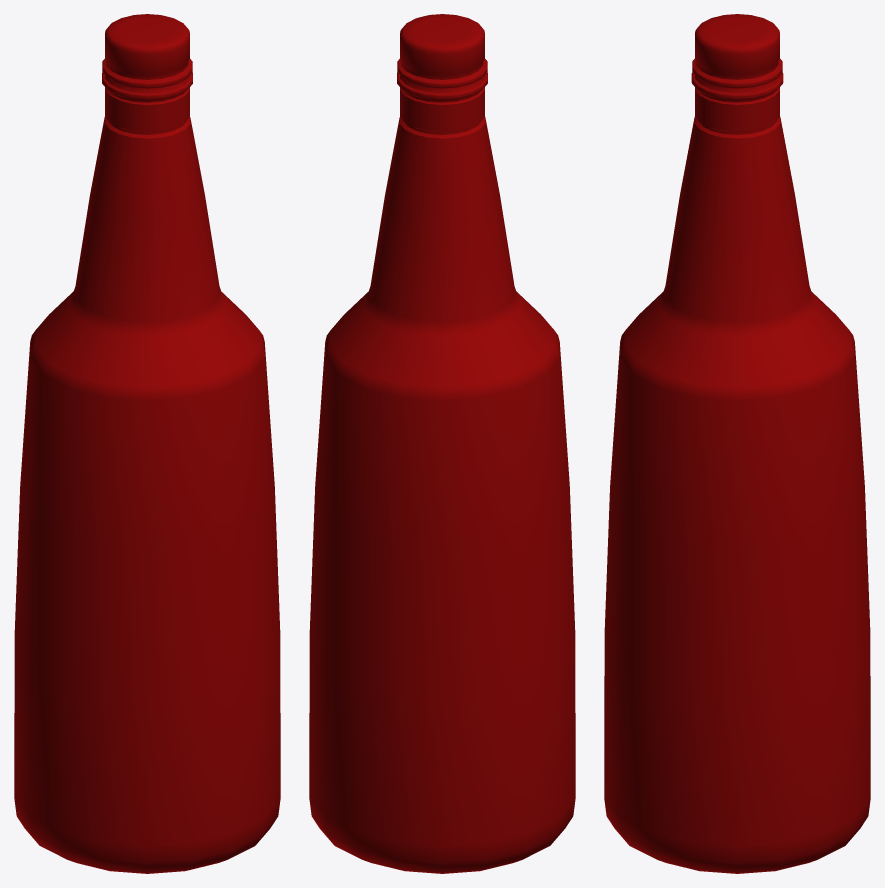
File: mesh_bottle_03.fbx
3 renders of one model, left to right at view 1: azimuth 30°, elevation 25°; view 2: azimuth 150°, elevation 25°; view 3: azimuth 270°, elevation 25°, orthographic.
Visible parts, largest first — view 1: mesh_bottle_03; view 2: mesh_bottle_03; view 3: mesh_bottle_03.
Part boxes in pixels (x1,y1,x2,y2): mesh_bottle_03: [14, 14, 280, 873]; mesh_bottle_03: [309, 14, 575, 873]; mesh_bottle_03: [604, 14, 870, 873].
Size of the model in its own units: 6.67 by 21.76 by 6.57.
